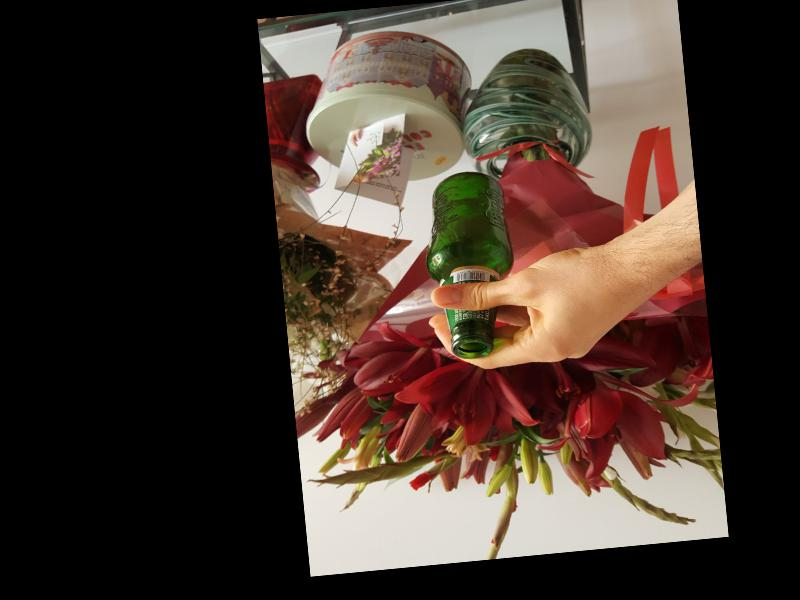Beer: (418, 168, 519, 360)
